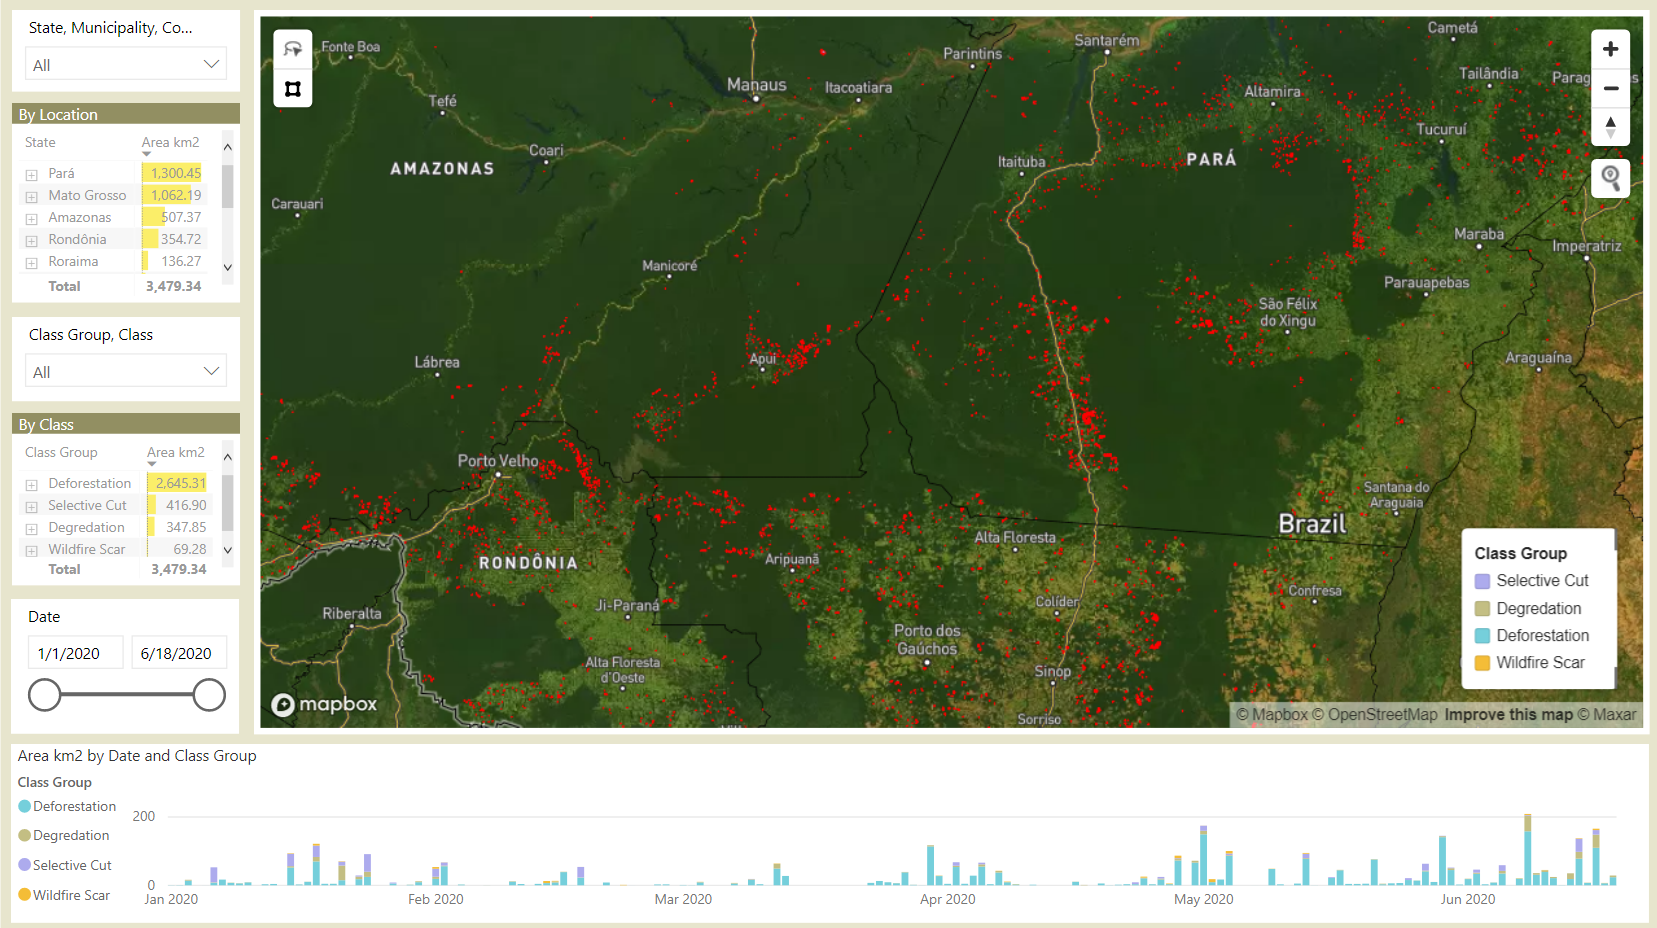

What the dashboard file says about the page in this screenshot:
{"tool":"powerbi","page":{"name":"2020","canvas":[1280,720],"ordinal":1},"visuals":[{"type":"pivotTable","title":"By Class","fields":{"Rows":["Classes.Class Group","Classes.Class"],"Values":["Sum(deter-amz 2020.Area km2)"]},"box":[8.2,320,175.8,133.2],"z":0},{"type":"PBI_CV_EB3A4088_75C5_4746_9D8B_255A7B7ECD6C","fields":{"location":["deter-amz 2020.ROW_NUMBER"],"tooltips":["Sum(deter-amz 2020.Area km2)","Max(deter-amz 2020.Date)","Min(deter-amz 2020.State Code)","Min(deter-amz 2020.Municipality)"],"color":["Min(Classes.Class Group)"]},"box":[195,9.6,1076.7,559],"z":1000},{"type":"columnChart","fields":{"Series":["Classes.Class Group"],"Category":["deter-amz 2020.Date"],"Y":["Sum(deter-amz 2020.Area km2)"]},"box":[8,576,1264,144],"z":2000},{"type":"slicer","fields":{"Values":["Brazilian States.State","deter-amz 2020.Municipality","deter-amz 2020.Conservation Unit"]},"box":[8.2,9.6,175.8,63.2],"z":3000},{"type":"slicer","fields":{"Values":["Classes.Class Group","Classes.Class"]},"box":[8.2,245.8,175.8,64.5],"z":4000},{"type":"slicer","fields":{"Values":["deter-amz 2020.Date"]},"box":[8,464,176,104],"z":5000},{"type":"pivotTable","title":"By Location","fields":{"Rows":["Brazilian States.State","deter-amz 2020.Municipality","deter-amz 2020.Conservation Unit"],"Values":["Sum(deter-amz 2020.Area km2)"]},"box":[8.2,81,175.8,153.8],"z":6000}]}

Visuals, with their boxes in screenshot pixels (x1, y1, x2, y2), scaled from the page's 1280x720 canvas onto the 1657x928 screenshot:
"By Class" pivotTable: bbox=(11, 412, 238, 584)
PBI_CV_EB3A4088_75C5_4746_9D8B_255A7B7ECD6C - deter-amz 2020.ROW_NUMBER x Sum(deter-amz 2020.Area km2): bbox=(252, 12, 1646, 733)
columnChart - Classes.Class Group x deter-amz 2020.Date: bbox=(10, 742, 1647, 927)
slicer - Brazilian States.State x deter-amz 2020.Municipality: bbox=(11, 12, 238, 94)
slicer - Classes.Class Group x Classes.Class: bbox=(11, 317, 238, 400)
slicer - deter-amz 2020.Date: bbox=(10, 598, 238, 732)
"By Location" pivotTable: bbox=(11, 104, 238, 303)
